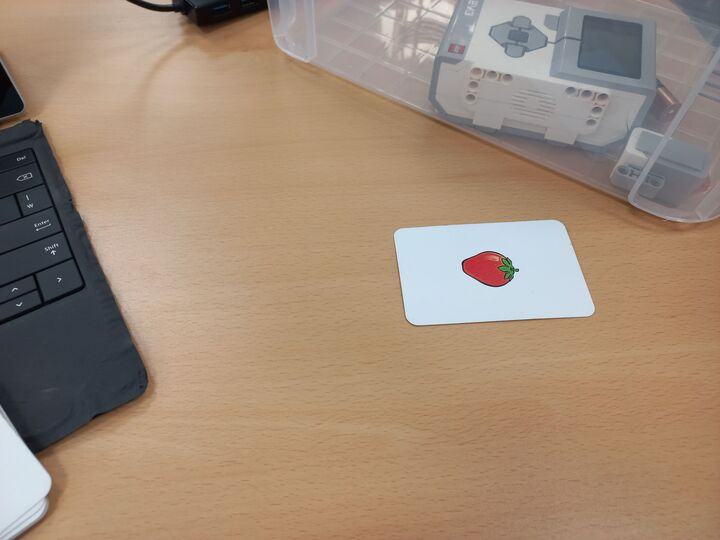strawberry1: (391, 216, 599, 327)
